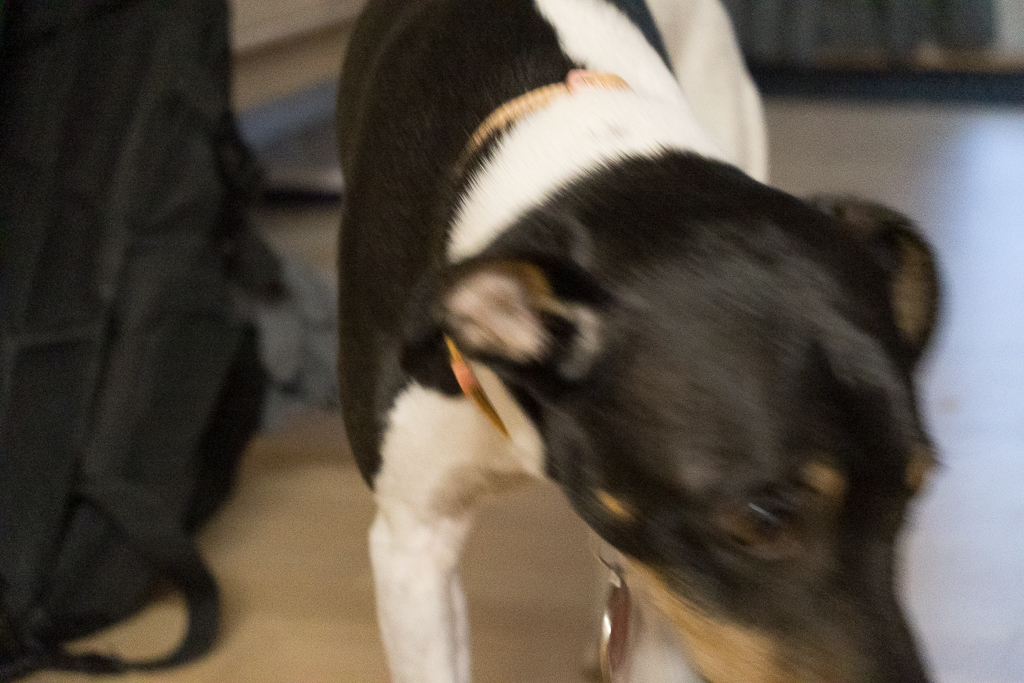Dog: (322, 0, 955, 683)
